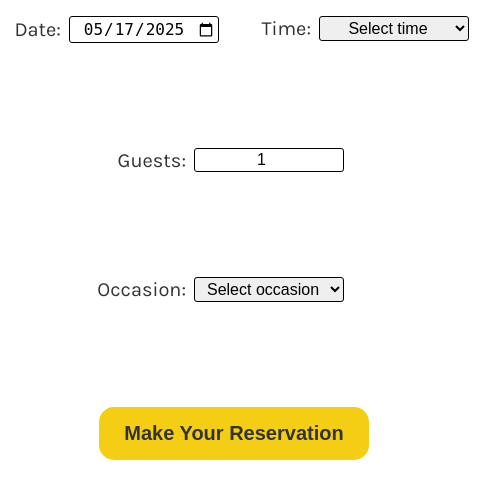
it: Input validation tests › hides the validation error message when the time input has value
# Trigger invalid value
Select "Select time" in the dropdown labelled "Time:" at (394, 28), box x1=319 y1=16 x2=469 y2=41
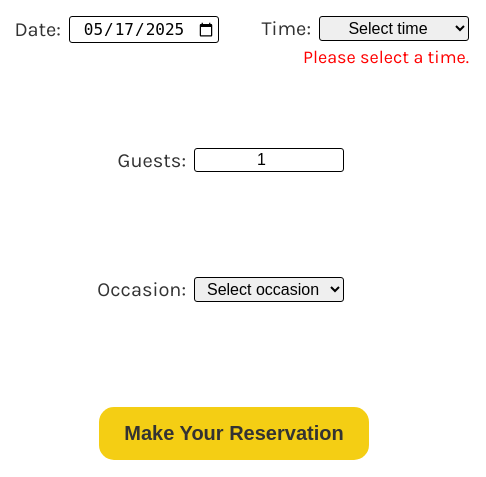
# Now fix the value
Select "18:00" in the dropdown labelled "Time:" at (394, 28), box x1=319 y1=16 x2=469 y2=41
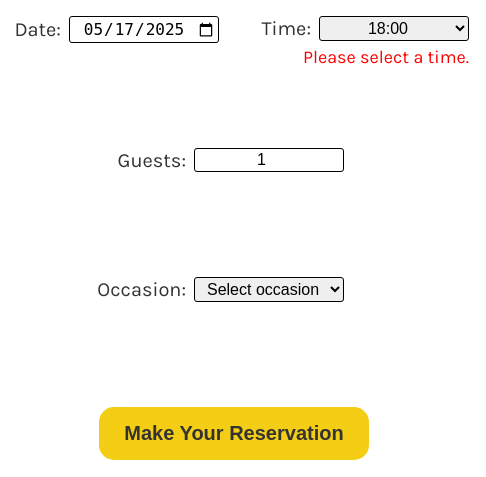
Leave the dropdown labelled "Time:", box x1=319 y1=16 x2=469 y2=41
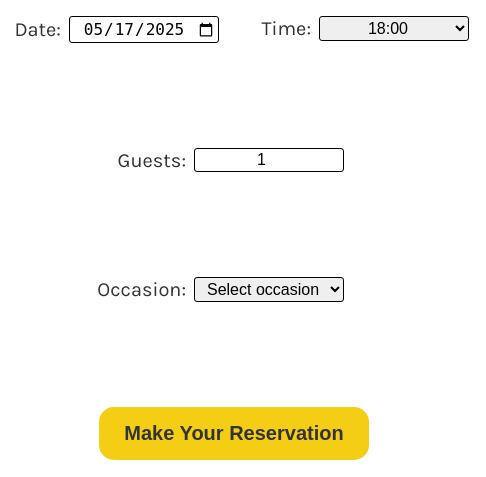
Check: the text "Please select a time." is gone
